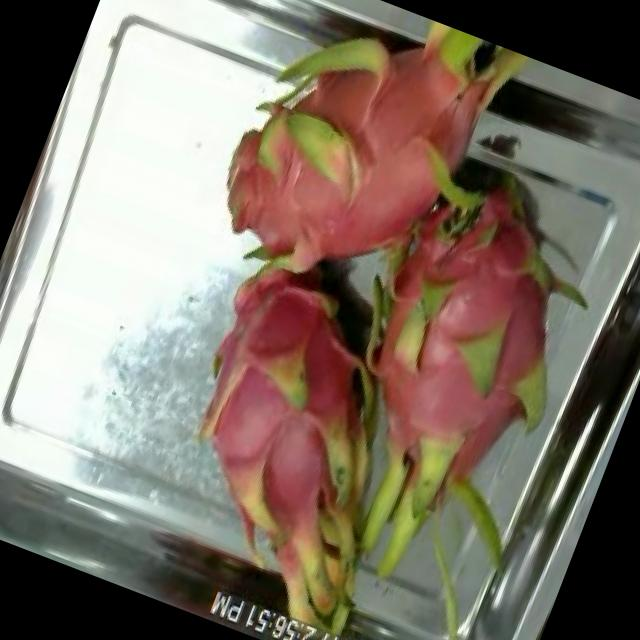Fruit: (185, 86, 405, 304)
